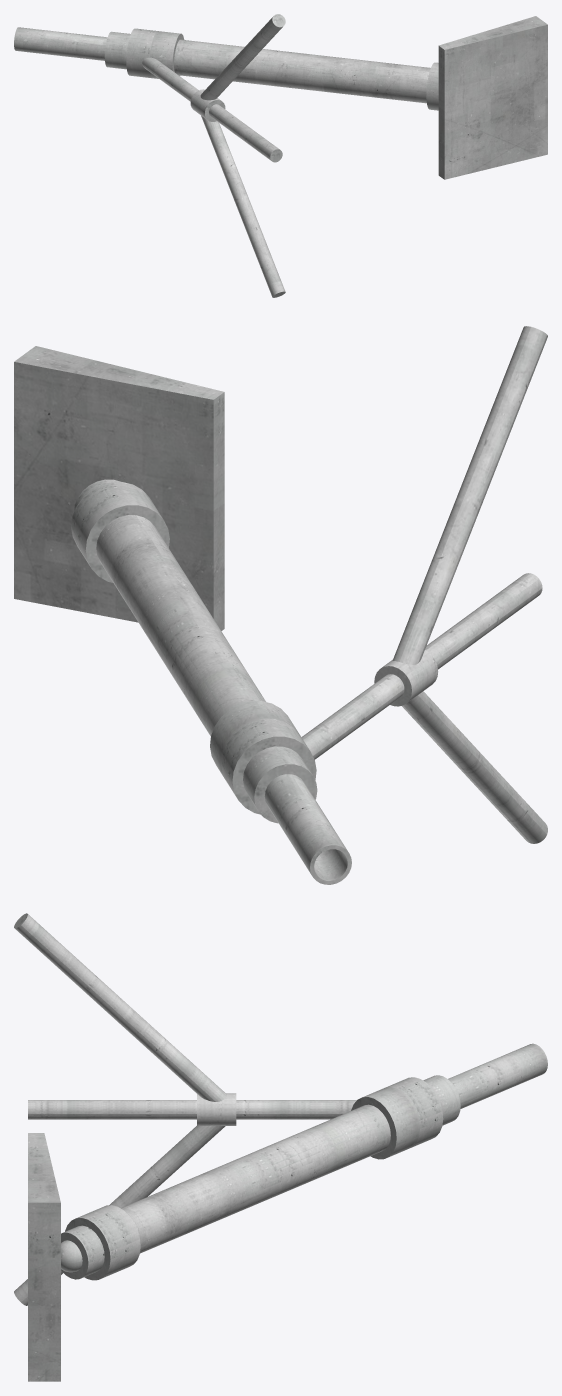
The model's file is MortarMid.dae.
3 renders of one model, top to bottom at view 1: azimuth 30°, elevation 25°; view 2: azimuth 150°, elevation 25°; view 3: azimuth 270°, elevation 25°, orthographic. The views are drawn at different scales.
Parts seen in each view (by area): view 1: group_1, group_2 (×2), group_7, group_6, group_4, group_8, group_3, group_9; view 2: group_1, group_2 (×3), group_8, group_6, group_4, group_7, group_3, group_9; view 3: group_2 (×2), group_1, group_6, group_8, group_4, group_3, group_7, group_9, group_12.
Boxes of the visible parts, x1,y1,x2,y2 form: group_1: [438, 16, 547, 179]; group_2 (×2): [14, 27, 430, 103]; group_7: [201, 115, 285, 297]; group_6: [142, 57, 282, 162]; group_4: [126, 28, 184, 78]; group_8: [200, 14, 285, 100]; group_3: [426, 62, 438, 110]; group_9: [190, 89, 225, 121]; group_1: [14, 346, 224, 630]; group_2 (×3): [73, 479, 351, 884]; group_8: [393, 326, 547, 664]; group_6: [301, 573, 542, 759]; group_4: [210, 701, 316, 814]; group_7: [402, 691, 547, 843]; group_3: [71, 482, 169, 582]; group_9: [374, 650, 438, 706]; group_2 (×2): [61, 1043, 547, 1279]; group_1: [28, 1133, 60, 1381]; group_6: [28, 1100, 356, 1119]; group_8: [14, 913, 226, 1101]; group_4: [351, 1077, 443, 1159]; group_3: [65, 1205, 140, 1280]; group_7: [14, 1125, 225, 1305]; group_9: [197, 1093, 236, 1125]; group_12: [61, 1240, 82, 1272].
Size of the model in its own units: 33.64 by 31.94 by 25.75.
1 material, 1 textured.
